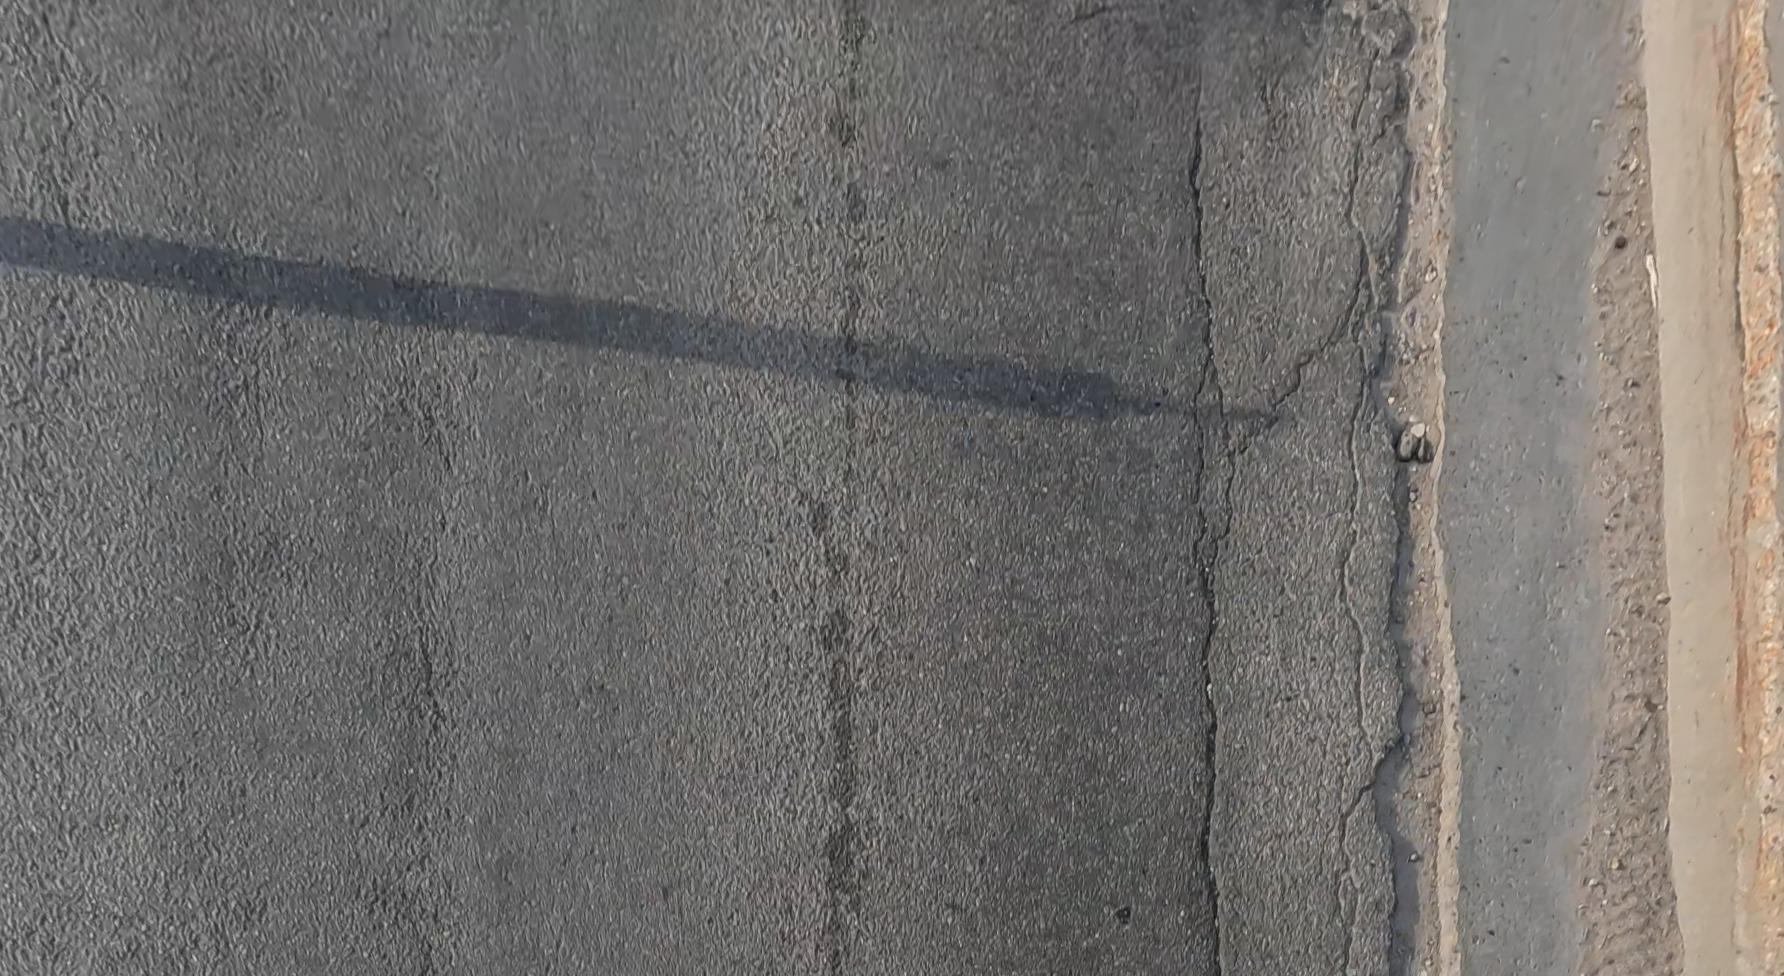pothole: (1376, 0, 1464, 975)
